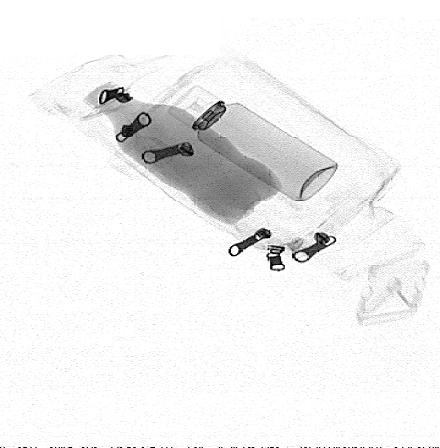Sprayer: (167, 86, 336, 201)
